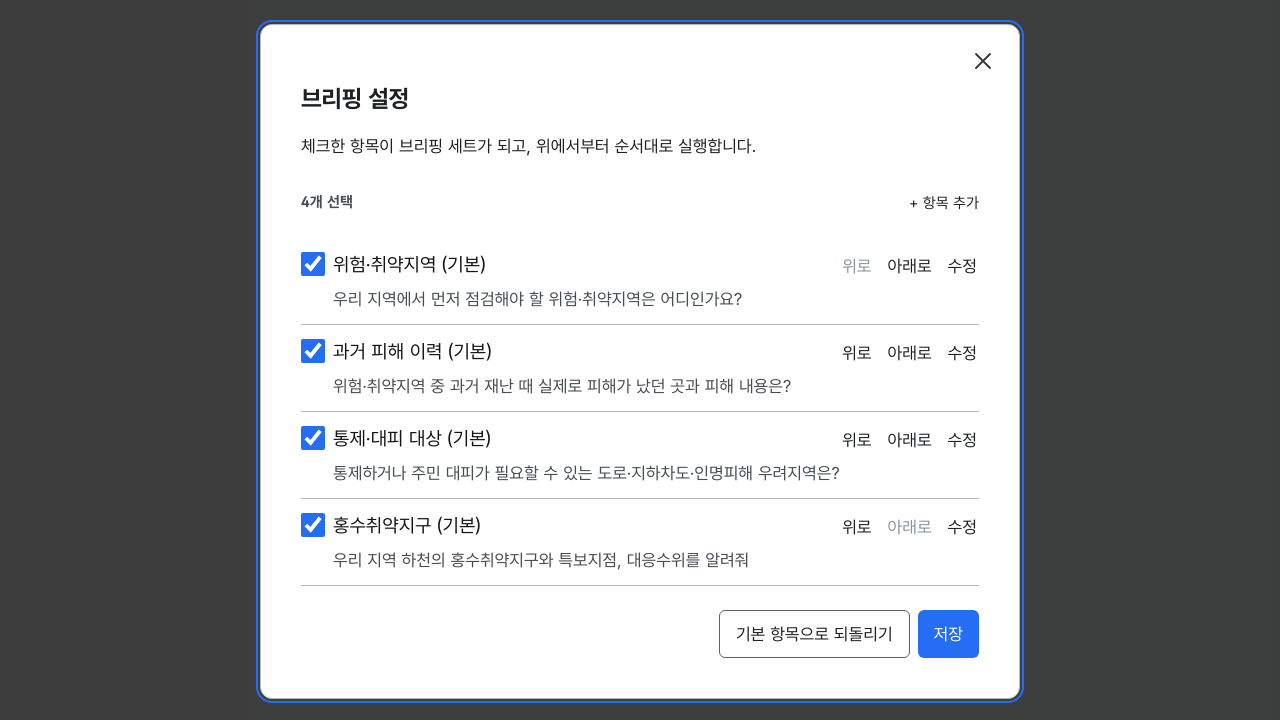
Test: 브리핑 설정 창 › 4개 미만 체크로 [저장]하면 그때 알린다(열자마자 혼내지 않음)
This screenshot has width=1280, height=720.
Check: the text "4개 선택" is shown, box [301,191,353,214]
Click the checkbox labelled "위험·취약지역 (기본)". click: (313, 264)
box: [301,252,325,276]
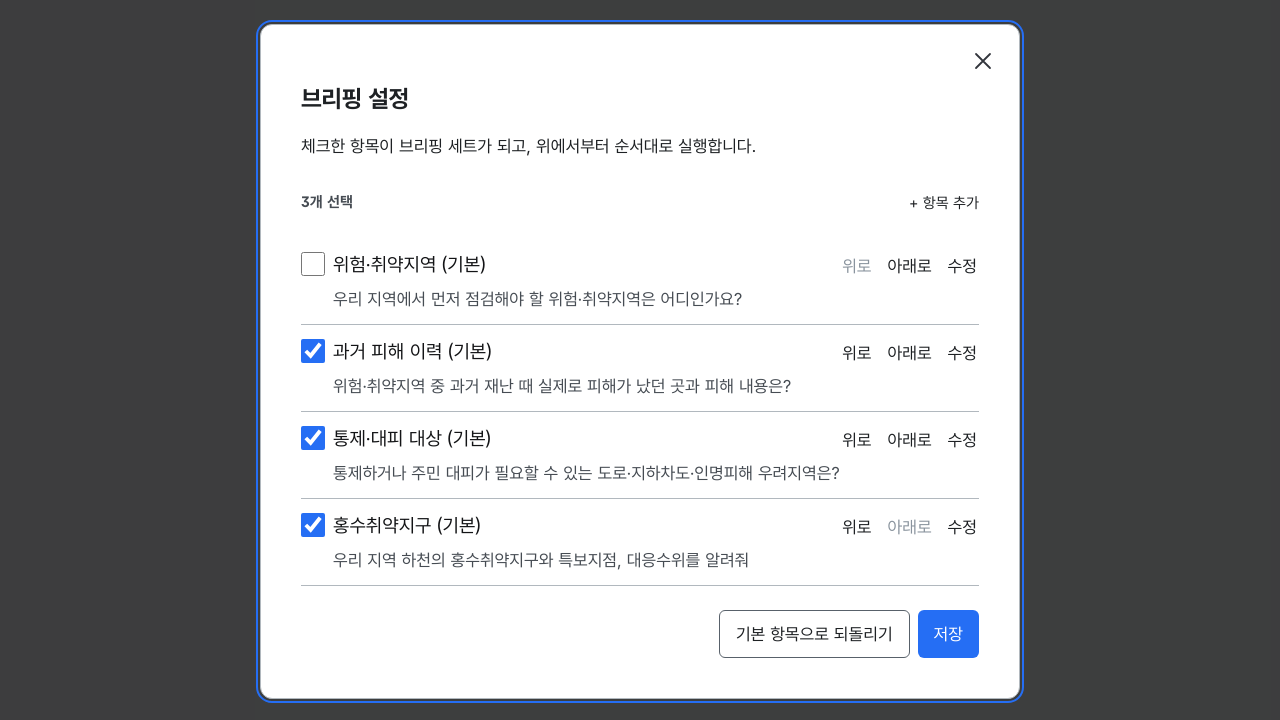
Check: the text "3개 선택" is shown, box [301,191,353,214]
Click the button "저장". click: (948, 634)
box: [918,610,979,658]
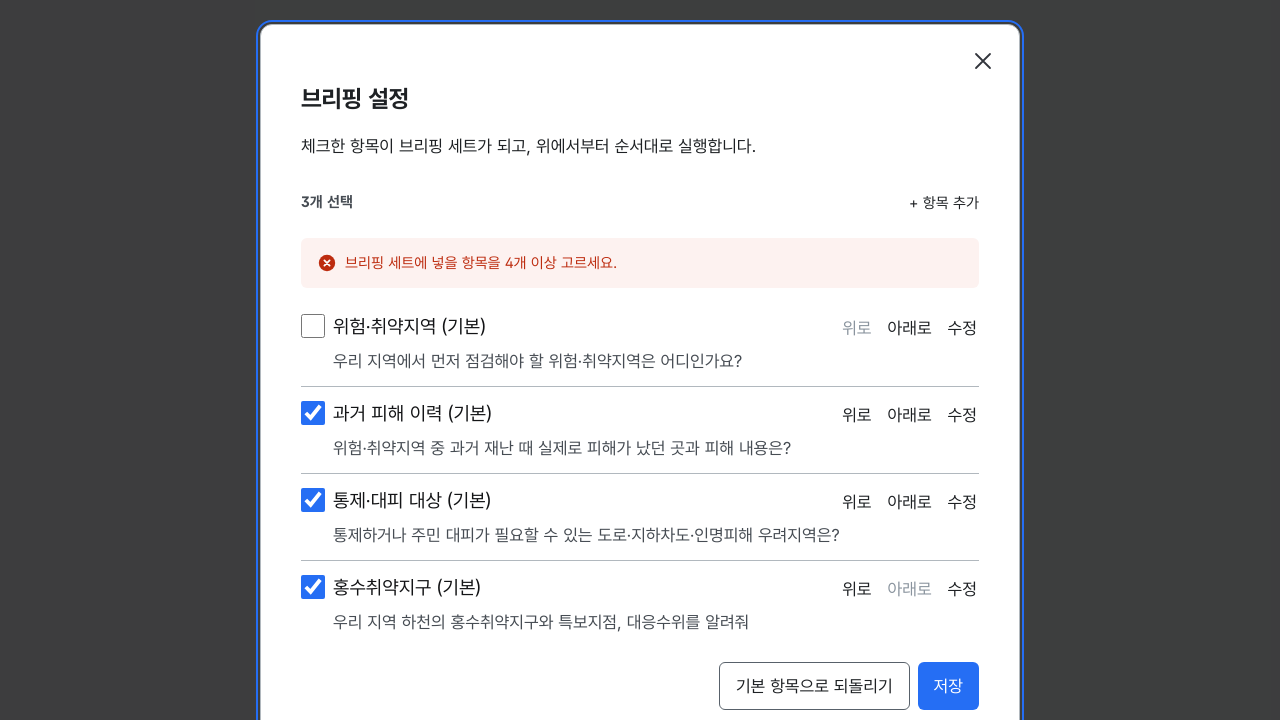
Check: the message reads "브리핑 세트에 넣을 항목을 4개 이상 고르세요.", box [301,238,979,288]
